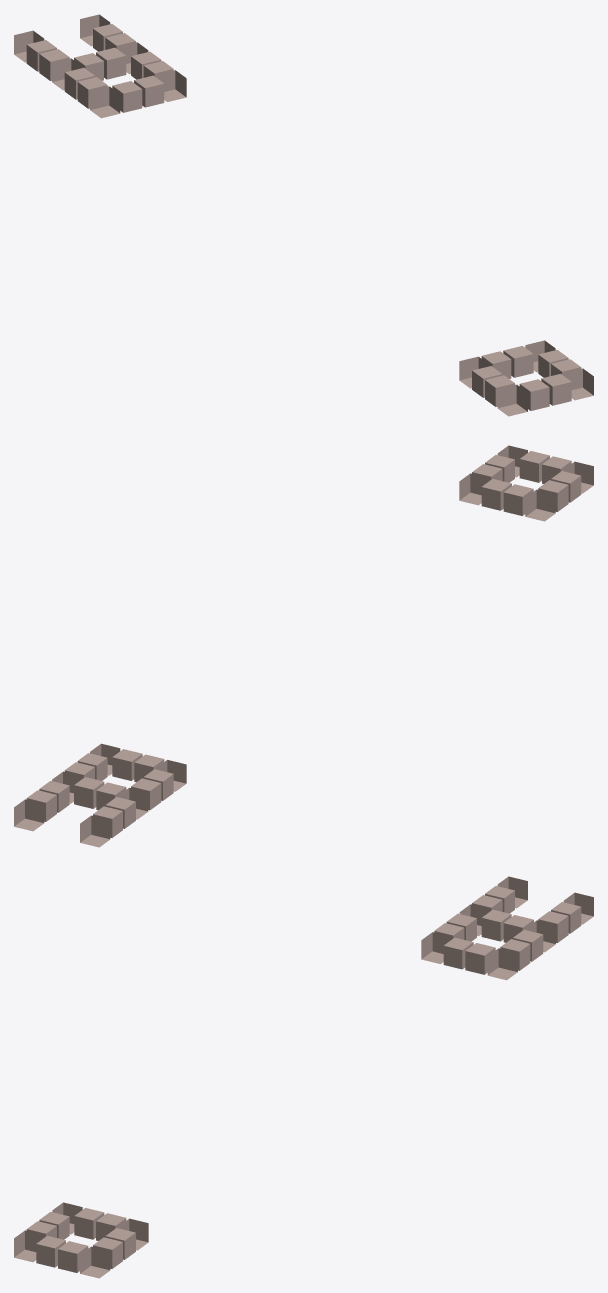
3 renders of one model, top to bottom at view 1: azimuth 30°, elevation 25°; view 2: azimuth 150°, elevation 25°; view 3: azimuth 330°, elevation 25°, orthographic.
Size of the model in its own units: 0.2323 by 0.0501 by 2.33.
